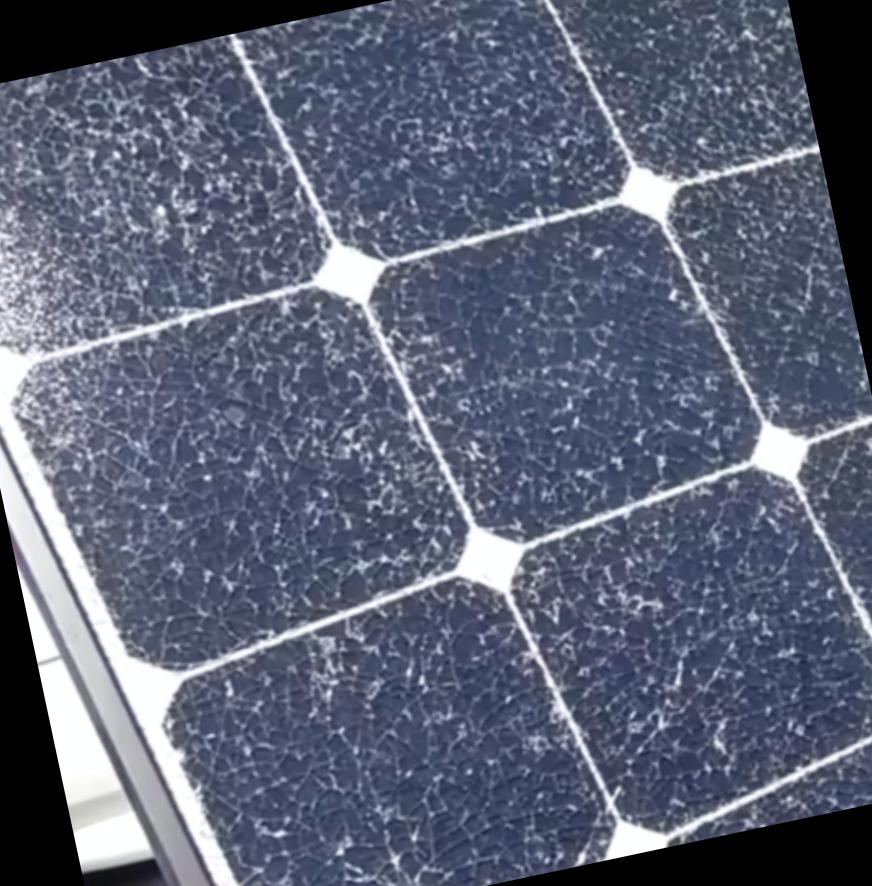Crack: (382, 158, 871, 541), (0, 267, 445, 669), (487, 455, 871, 871), (121, 560, 609, 885), (0, 14, 390, 418), (252, 0, 817, 261)
